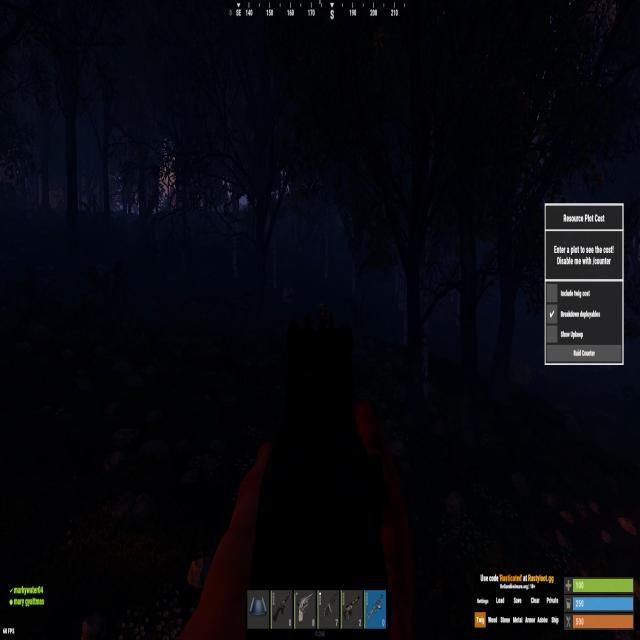Player: (317, 302, 328, 326)
